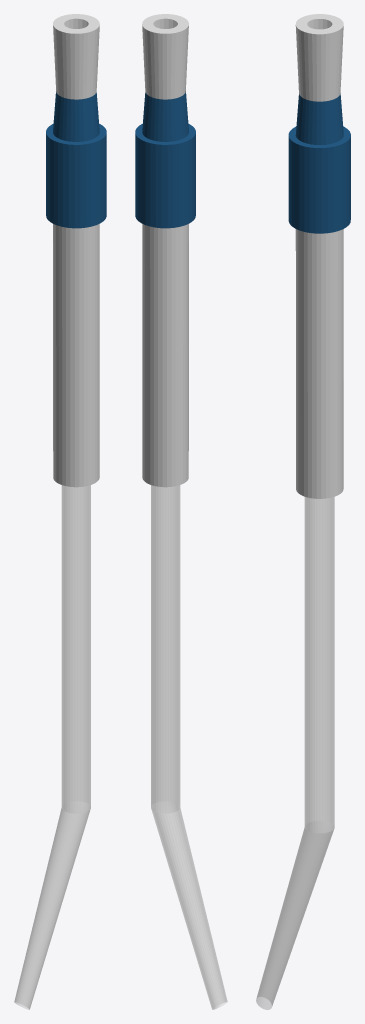
File: Suction.fbx
3 views of the same model, side by side, from view 1: azimuth 30°, elevation 25°; view 2: azimuth 150°, elevation 25°; view 3: azimuth 330°, elevation 25° (orthographic). The views are drawn at different scales.
Parts seen in each view (by area): view 1: Cylinder; view 2: Cylinder; view 3: Cylinder.
Part boxes in pixels (<box>): Cylinder: <box>14,14,106,1009</box>; Cylinder: <box>135,14,227,1009</box>; Cylinder: <box>256,14,350,1009</box>.
Size of the model in its own units: 237 by 2523 by 143.
Materials: 2 (1 with a texture image).
